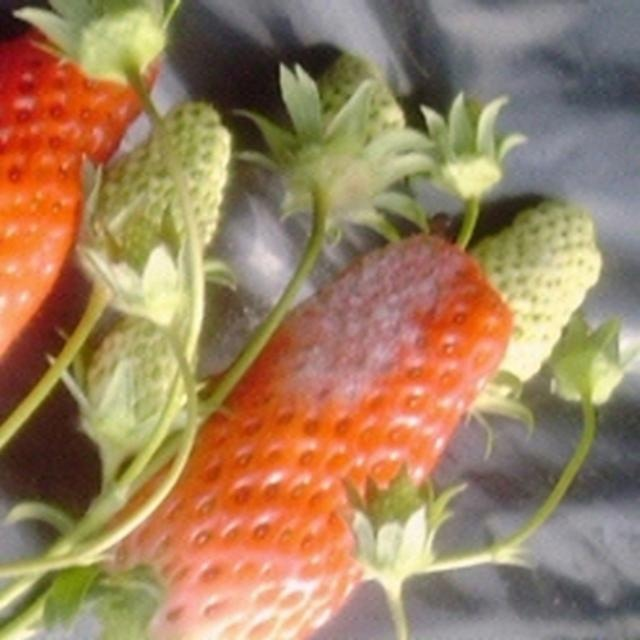Powdery Mildew Fruit: (260, 232, 484, 430)
